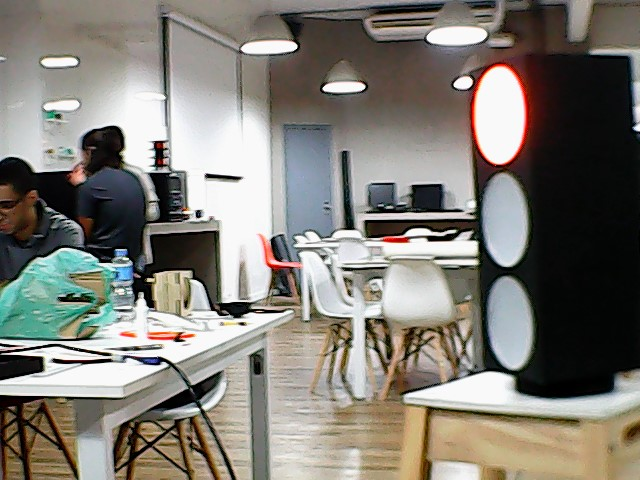vermelho: (460, 44, 640, 386)
